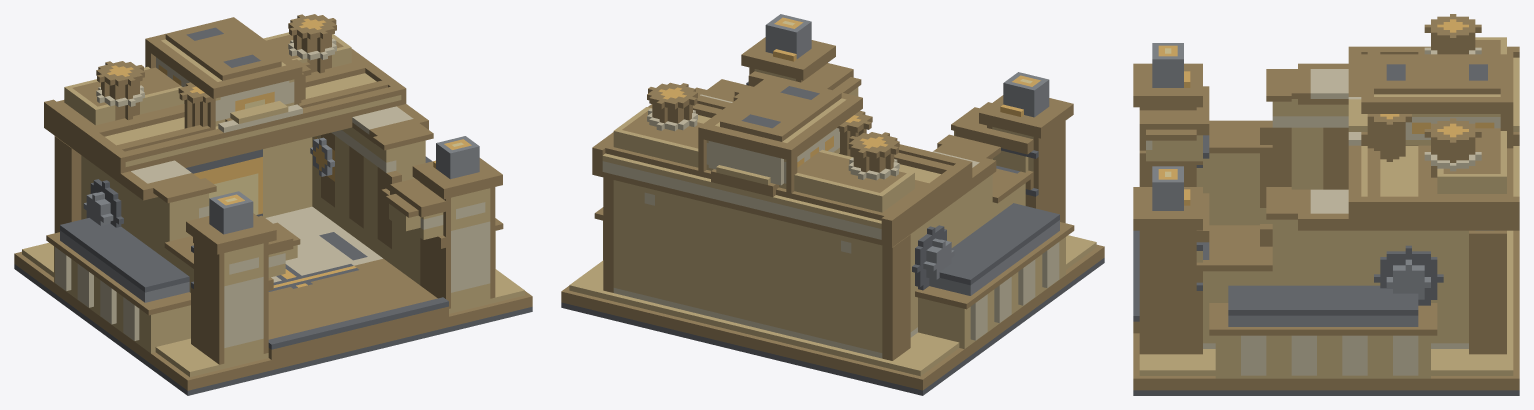
Rendered from hall.glb.
3 renders of one model, left to right at view 1: azimuth 30°, elevation 25°; view 2: azimuth 150°, elevation 25°; view 3: azimuth 270°, elevation 25°, orthographic. The views are drawn at different scales.
Size of the model in its own units: 72 by 40 by 61.
